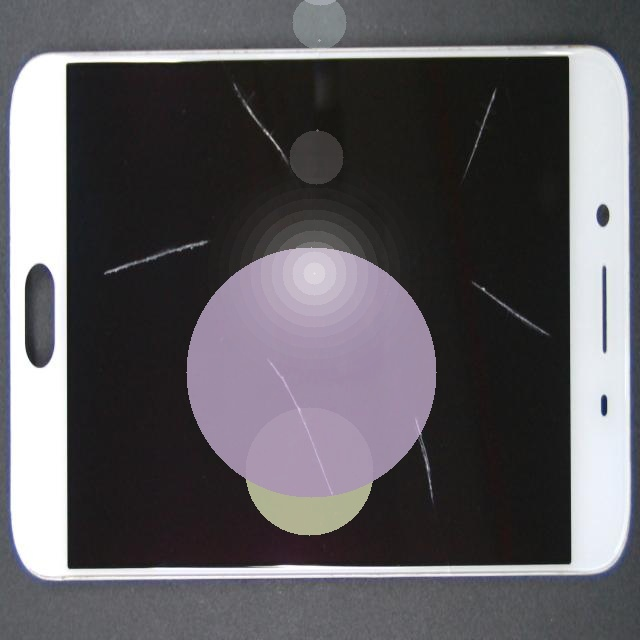scratch: (201, 129, 624, 640), (106, 86, 423, 605), (331, 183, 640, 449), (266, 0, 640, 170), (163, 90, 270, 345), (192, 120, 423, 188)
